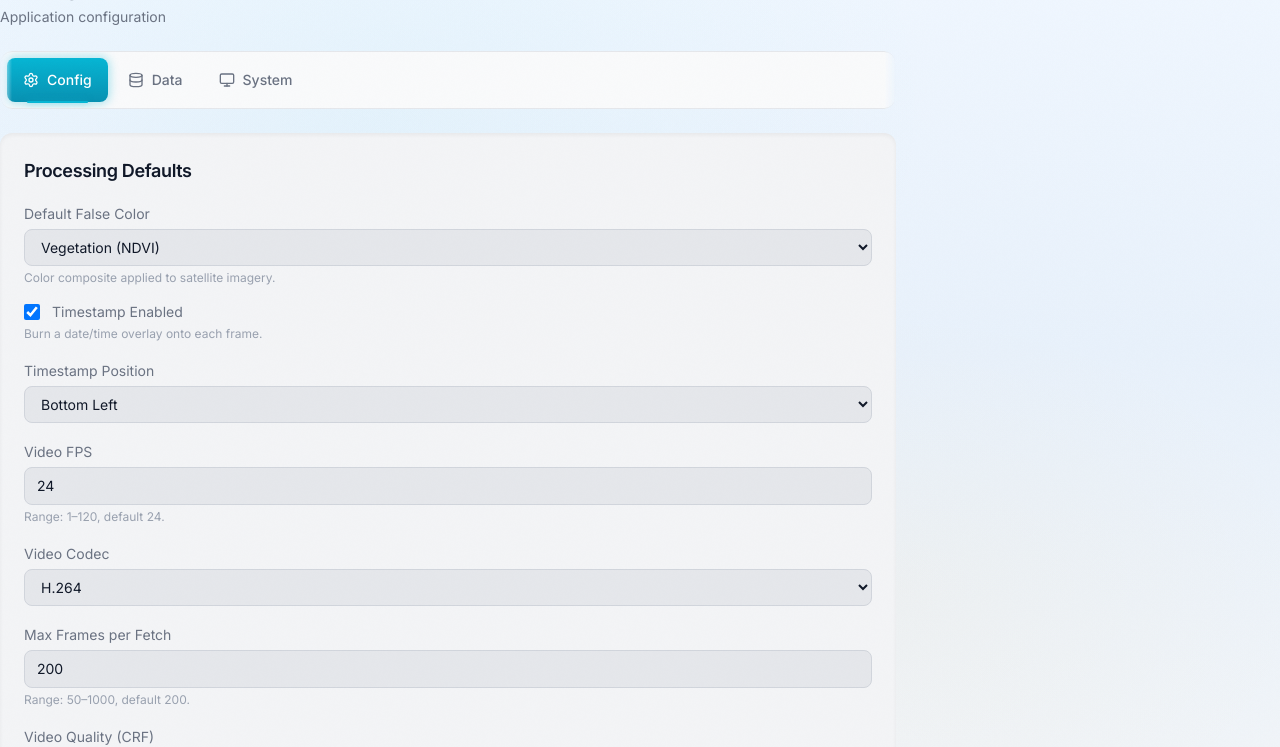
Test case: Settings › sets aria-invalid on Video FPS and shows inline error when FPS=0 on save
Replace the text in the number field labelled "Video FPS" with "0" at (448, 486), box [24,467,872,505]
(page scrolled)
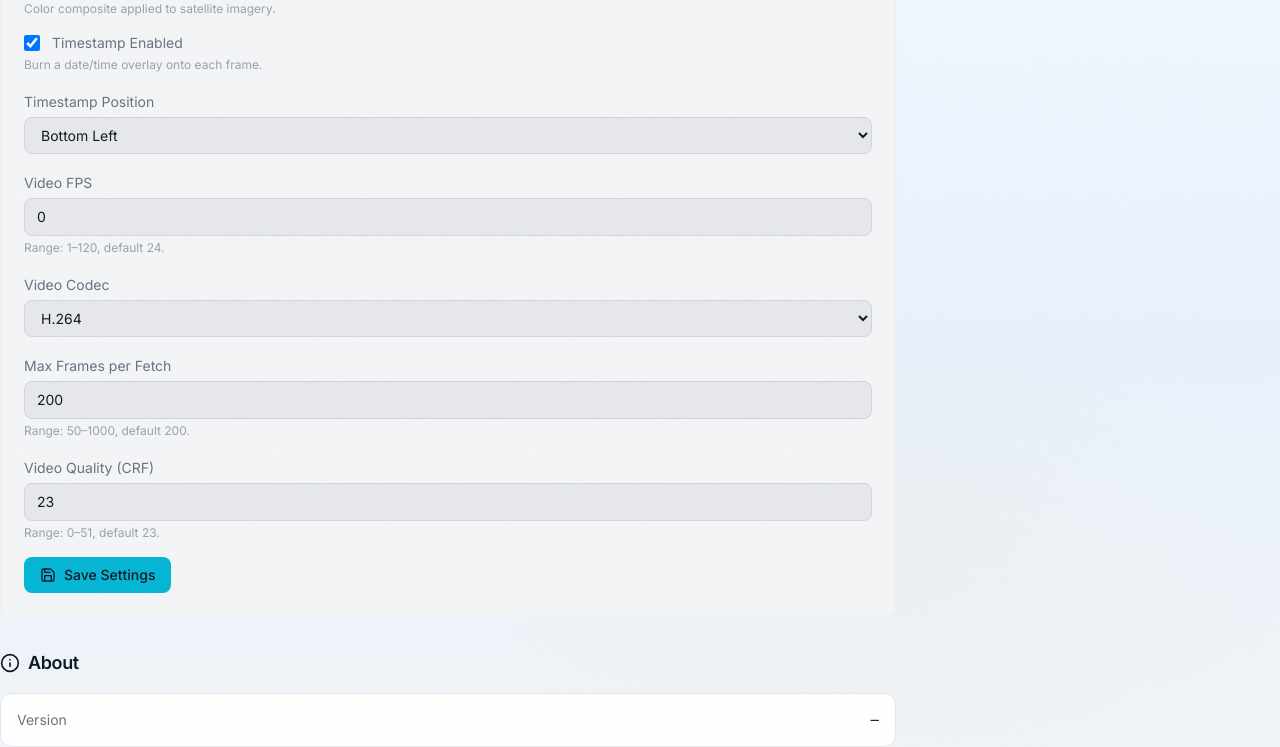
Click the button "Save Settings" at (98, 575), box [24,557,171,593]
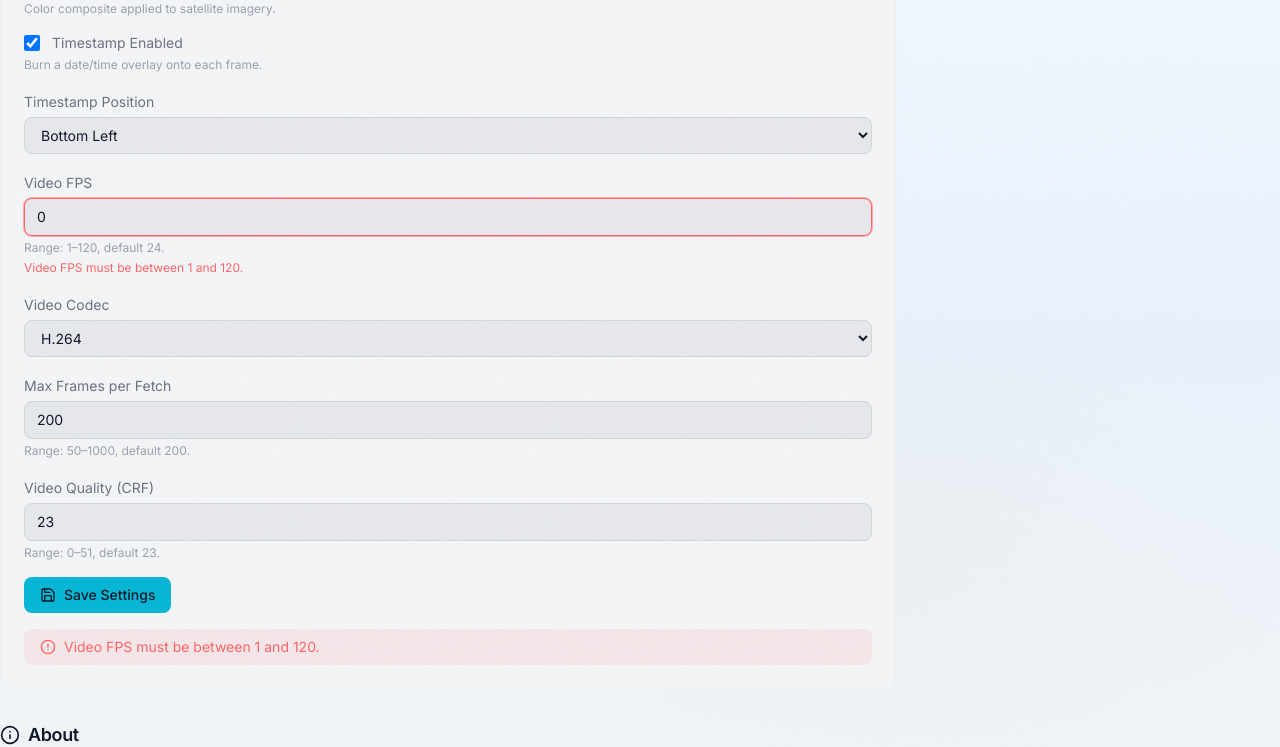
Expected: the text "Video FPS must be between 1 and 120." is shown, [24,260,243,275]
